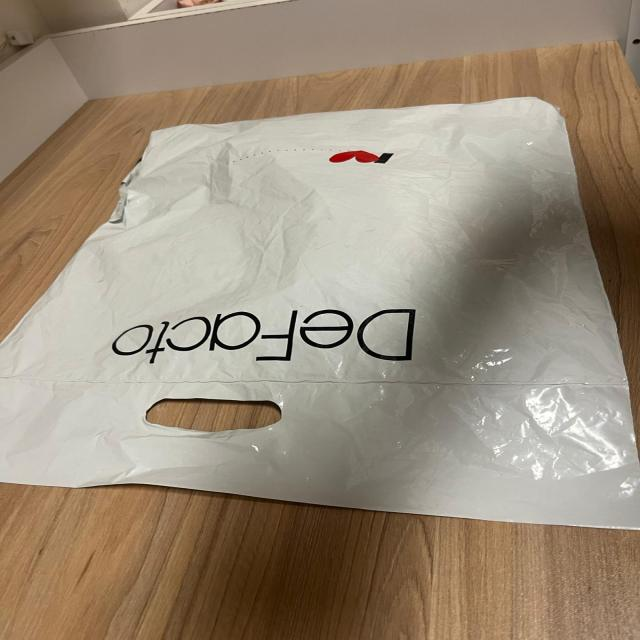good_package: (1, 98, 638, 537)
